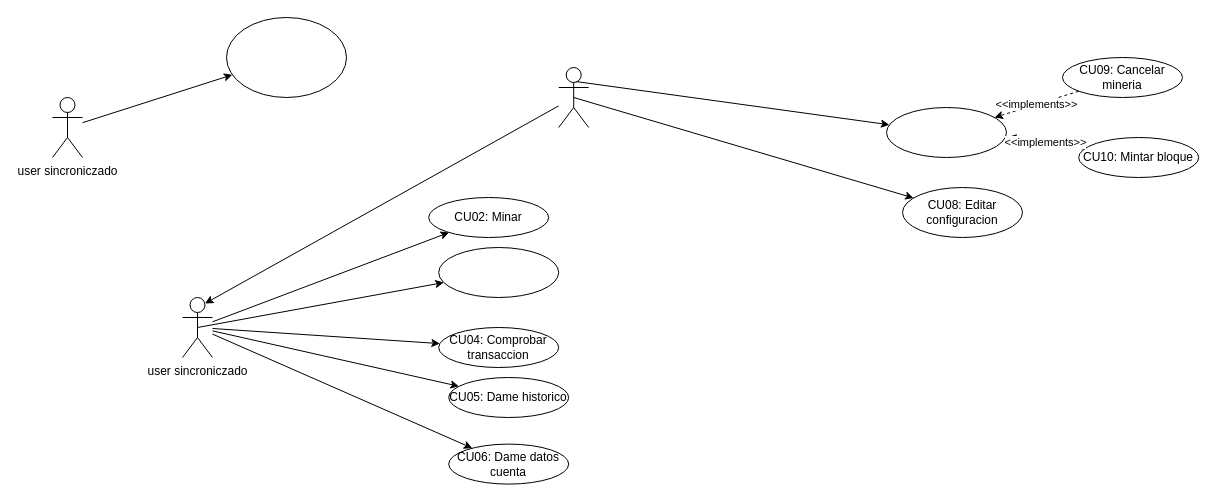
Some shapes in this 1216 by 502 pixel diagram are drawn without their labels. The centre of each missing label's shape, as x and y in pixels:
CU01: Sincronizar ddbb: pixel 286 57
CU03: Realizar transaccion: pixel 498 272
CU07; Empezar mineria: pixel 946 132
minero: pixel 573 97
